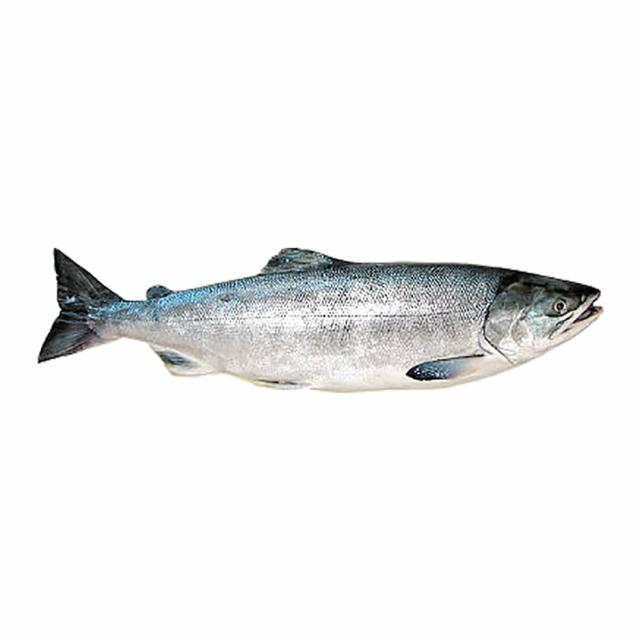grouper: (27, 217, 604, 424)
